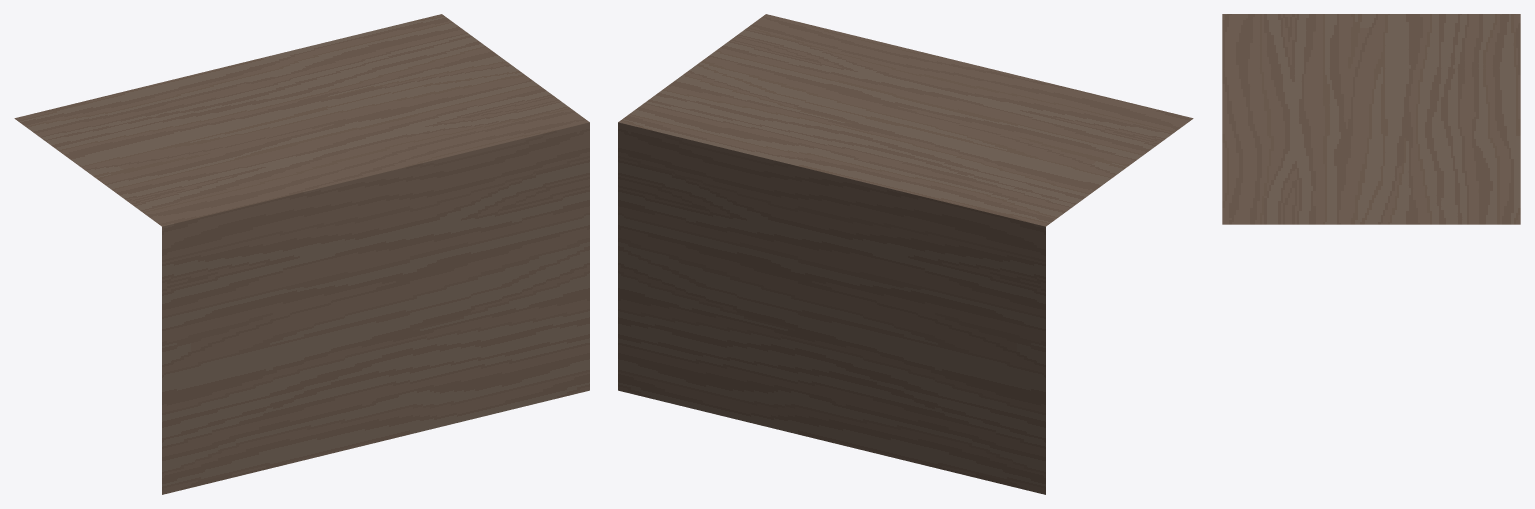
File: kd_stage_135b75_4_157_bounded_portal.glb
3 renders of one model, left to right at view 1: azimuth 30°, elevation 25°; view 2: azimuth 150°, elevation 25°; view 3: azimuth 270°, elevation 25°, orthographic.
Visible parts, largest first — view 1: kd_stage_135b75_4_157_bounded_portal; view 2: kd_stage_135b75_4_157_bounded_portal; view 3: kd_stage_135b75_4_157_bounded_portal.
Part boxes in pixels (<box>): kd_stage_135b75_4_157_bounded_portal: <box>14,14,589,494</box>; kd_stage_135b75_4_157_bounded_portal: <box>618,14,1193,494</box>; kd_stage_135b75_4_157_bounded_portal: <box>1222,14,1520,224</box>.
Size of the model in its own units: 0.2627 by 0.1574 by 0.1574.
Materials: 1 (1 with a texture image).
